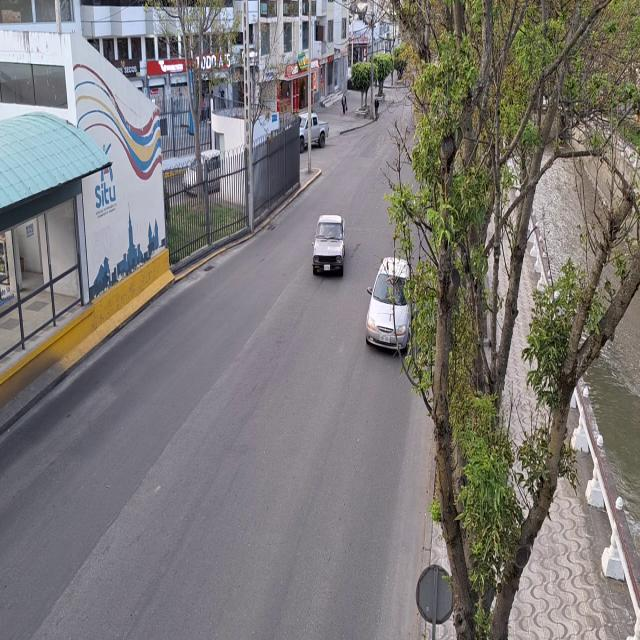CMT: (315, 212, 348, 276), (298, 110, 330, 149)
SED: (364, 253, 413, 353)
